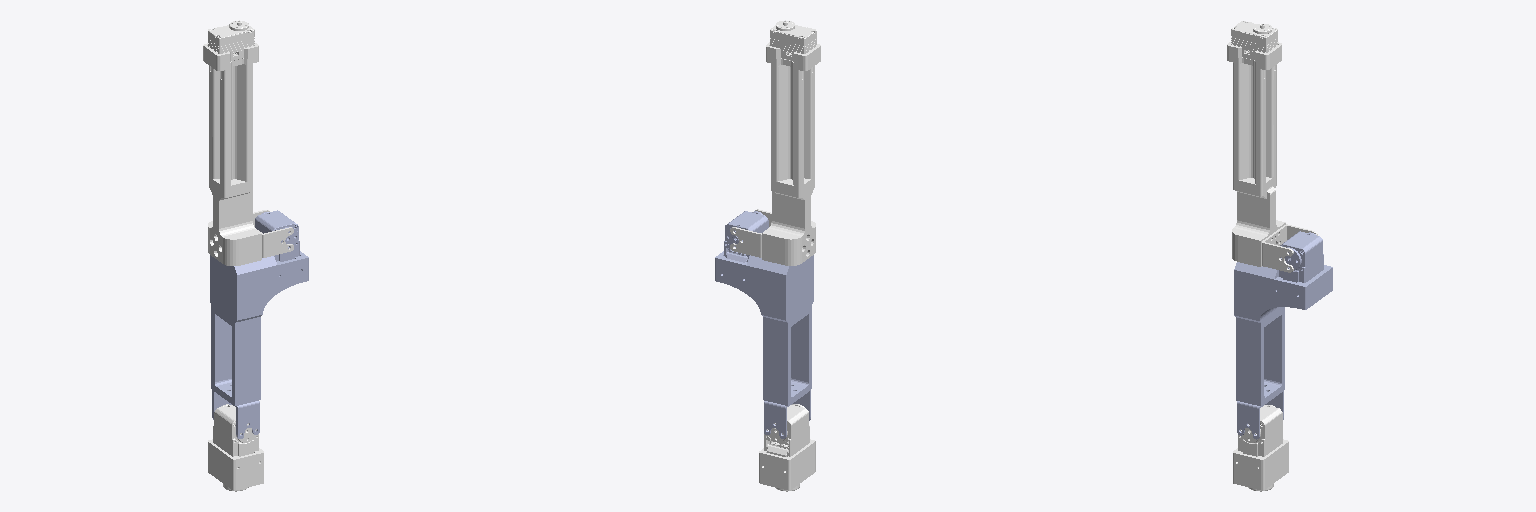
robot.urdf — flying_hand_leader:
<?xml version="1.0" encoding="utf-8"?>
<!-- This URDF was automatically created by SolidWorks to URDF Exporter! Originally created by Stephen Brawner (brawner@gmail.com)
     Commit Version: 1.6.0-4-g7f85cfe  Build Version: 1.6.7995.38578
     For more information, please see http://wiki.ros.org/sw_urdf_exporter -->
<robot
  name="flying_hand_leader">

  <mujoco>
    <compiler meshdir="meshes/" balanceinertia="true" discardvisual="false"/>
  </mujoco>

  <link
    name="base_link">
    <inertial>
      <origin
        xyz="0 -0.0073271 0.027922"
        rpy="0 0 0" />
      <mass
        value="0.13025" />
      <inertia
        ixx="6.958E-05"
        ixy="0"
        ixz="0"
        iyy="5.706E-05"
        iyz="-6.69E-06"
        izz="5.852E-05" />
    </inertial>
    <visual>
      <origin
        xyz="0 0 0"
        rpy="0 0 0" />
      <geometry>
        <mesh
          filename="meshes/base_link.STL" />
      </geometry>
      <material
        name="">
        <color
          rgba="1 1 1 1" />
      </material>
    </visual>
    <collision>
      <origin
        xyz="0 0 0"
        rpy="0 0 0" />
      <geometry>
        <mesh
          filename="meshes/base_link.STL" />
      </geometry>
    </collision>
  </link>
  <link
    name="link_1">
    <inertial>
      <origin
        xyz="0 -0.00156867 0.03460183"
        rpy="0 0 0" />
      <mass
        value="0.08581" />
      <inertia
        ixx="3.717E-05"
        ixy="0"
        ixz="0"
        iyy="3.006E-05"
        iyz="9E-07"
        izz="1.849E-05" />
    </inertial>
    <visual>
      <origin
        xyz="0 0 0"
        rpy="0 0 0" />
      <geometry>
        <mesh
          filename="meshes/link_1.STL" />
      </geometry>
      <material
        name="">
        <color
          rgba="1 1 1 1" />
      </material>
    </visual>
    <collision>
      <origin
        xyz="0 0 0"
        rpy="0 0 0" />
      <geometry>
        <mesh
          filename="meshes/link_1.STL" />
      </geometry>
    </collision>
  </link>
  <joint
    name="joint_1"
    type="revolute">
    <origin
      xyz="0 0 0.0528"
      rpy="0 0 0" />
    <parent
      link="base_link" />
    <child
      link="link_1" />
    <axis
      xyz="0 0 1" />
    <limit
      lower="-2.8973"
      upper="2.8973"
      effort="3.43"
      velocity="4.72" />
  </joint>
  <link
    name="link_2">
    <inertial>
      <origin
        xyz="-0.0260946 0.13096995 -0.00115046"
        rpy="0 0 0" />
      <mass
        value="0.11524" />
      <inertia
        ixx="0.00023289"
        ixy="6.19E-05"
        ixz="-1.32E-06"
        iyy="6.035E-05"
        iyz="2.87E-06"
        izz="0.00025434" />
    </inertial>
    <visual>
      <origin
        xyz="0 0 0"
        rpy="0 0 0" />
      <geometry>
        <mesh
          filename="meshes/link_2.STL" />
      </geometry>
      <material
        name="">
        <color
          rgba="0.79216 0.81961 0.93333 1" />
      </material>
    </visual>
    <collision>
      <origin
        xyz="0 0 0"
        rpy="0 0 0" />
      <geometry>
        <mesh
          filename="meshes/link_2.STL" />
      </geometry>
    </collision>
  </link>
  <joint
    name="joint_2"
    type="revolute">
    <origin
      xyz="0 0 0.0486100000000001"
      rpy="1.5707963267949 0 3.14159265358979" />
    <parent
      link="link_1" />
    <child
      link="link_2" />
    <axis
      xyz="0 0 1" />
    <limit
      lower="-1.7628"
      upper="1.7628"
      effort="4.903"
      velocity="8.95" />
  </joint>
  <link
    name="link_3">
    <inertial>
      <origin
        xyz="0.03950206 0.10829022 -0.00063991"
        rpy="0 0 0" />
      <mass
        value="0.0848" />
      <inertia
        ixx="0.00051159"
        ixy="-2.503E-05"
        ixz="2E-08"
        iyy="2.009E-05"
        iyz="5.6E-07"
        izz="0.00051731" />
    </inertial>
    <visual>
      <origin
        xyz="0 0 0"
        rpy="0 0 0" />
      <geometry>
        <mesh
          filename="meshes/link_3.STL" />
      </geometry>
      <material
        name="">
        <color
          rgba="1 1 1 1" />
      </material>
    </visual>
    <collision>
      <origin
        xyz="0 0 0"
        rpy="0 0 0" />
      <geometry>
        <mesh
          filename="meshes/link_3.STL" />
      </geometry>
    </collision>
  </link>
  <joint
    name="joint_3"
    type="revolute">
    <origin
      xyz="-0.0381400000000001 0.1640000018731 -0.000200000000001629"
      rpy="0 0 0" />
    <parent
      link="link_2" />
    <child
      link="link_3" />
    <axis
      xyz="0 0 1" />
    <limit
      lower="0"
      upper="1.7628"
      effort="3.43"
      velocity="4.72" />
  </joint>
  <link
    name="link_4">
    <inertial>
      <origin
        xyz="0.01371397 0.00802015 0.02165848"
        rpy="0 0 0" />
      <mass
        value="0.0542" />
      <inertia
        ixx="1.239E-05"
        ixy="3.84E-06"
        ixz="6.81E-06"
        iyy="5.49E-05"
        iyz="-1.18E-06"
        izz="5.212E-05" />
    </inertial>
    <visual>
      <origin
        xyz="0 0 0"
        rpy="0 0 0" />
      <geometry>
        <mesh
          filename="meshes/link_4.STL" />
      </geometry>
      <material
        name="">
        <color
          rgba="1 1 1 1" />
      </material>
    </visual>
    <collision>
      <origin
        xyz="0 0 0"
        rpy="0 0 0" />
      <geometry>
        <mesh
          filename="meshes/link_4.STL" />
      </geometry>
    </collision>
  </link>
  <joint
    name="joint_4"
    type="revolute">
    <origin
      xyz="0.03582 0.1935 -0.00077"
      rpy="1.5708 0 -3.1416" />
    <parent
      link="link_3" />
    <child
      link="link_4" />
    <axis
      xyz="0 0 -1" />
    <limit
      lower="-2.8973"
      upper="2.8973"
      effort="1.39"
      velocity="10.47" />
  </joint>
  <link
    name="link_5">
    <inertial>
      <origin
        xyz="0.022967 0.0098954 -0.00083577"
        rpy="0 0 0" />
      <mass
        value="0.0036" />
      <inertia
        ixx="3.9E-07"
        ixy="-4.8E-07"
        ixz="-2E-08"
        iyy="1.62E-06"
        iyz="-1E-08"
        izz="1.99E-06" />
    </inertial>
    <visual>
      <origin
        xyz="0 0 0"
        rpy="0 0 0" />
      <geometry>
        <mesh
          filename="meshes/link_5.STL" />
      </geometry>
      <material
        name="">
        <color
          rgba="1 1 1 1" />
      </material>
    </visual>
    <collision>
      <origin
        xyz="0 0 0"
        rpy="0 0 0" />
      <geometry>
        <mesh
          filename="meshes/link_5.STL" />
      </geometry>
    </collision>
  </link>
  <joint
    name="joint_5"
    type="revolute">
    <origin
      xyz="0 0.02485 0.03"
      rpy="1.5708 0 0" />
    <parent
      link="link_4" />
    <child
      link="link_5" />
    <axis
      xyz="0 0 -1" />
    <limit
      lower="-2.8973"
      upper="2.8973"
      effort="1.471"
      velocity="7.12" />
  </joint>
</robot>

--- Facts derived from the render (not from the file) ---
The picture shows the robot from 3 angles, left to right: view 1: azimuth 30°, elevation 25°; view 2: azimuth 150°, elevation 25°; view 3: azimuth 330°, elevation 25°; orthographic projection.
Robot: flying_hand_leader — 6 links, 5 joints (5 revolute); root link base_link; default pose: every joint at zero.
Links seen in each view (by area): view 1: link_3, link_2, link_1; view 2: link_3, link_2, link_1; view 3: link_3, link_2, link_1.
Boxes of the visible links, bbox=[...] form: link_3: bbox=[203, 20, 293, 265]; link_2: bbox=[210, 210, 308, 438]; link_1: bbox=[208, 404, 263, 491]; link_3: bbox=[730, 20, 820, 265]; link_2: bbox=[715, 211, 813, 438]; link_1: bbox=[759, 404, 815, 491]; link_3: bbox=[1227, 21, 1317, 272]; link_2: bbox=[1234, 231, 1332, 439]; link_1: bbox=[1233, 405, 1288, 491].
Bounding box of the posed robot: 0.0804 × 0.045 × 0.4165 m (x, y, z).
Meshes: 6 distinct files referenced, 3 mesh visuals loaded (3 binary STL); not drawn: 3 (reference not matched to a file when rendering).
